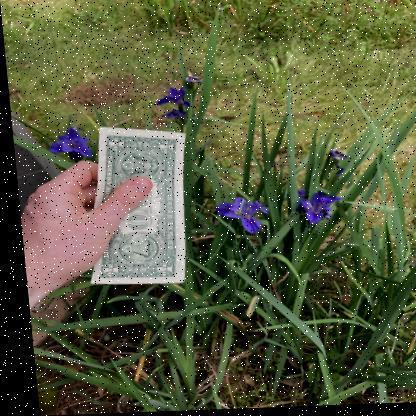dollar_back: (85, 128, 184, 285)
